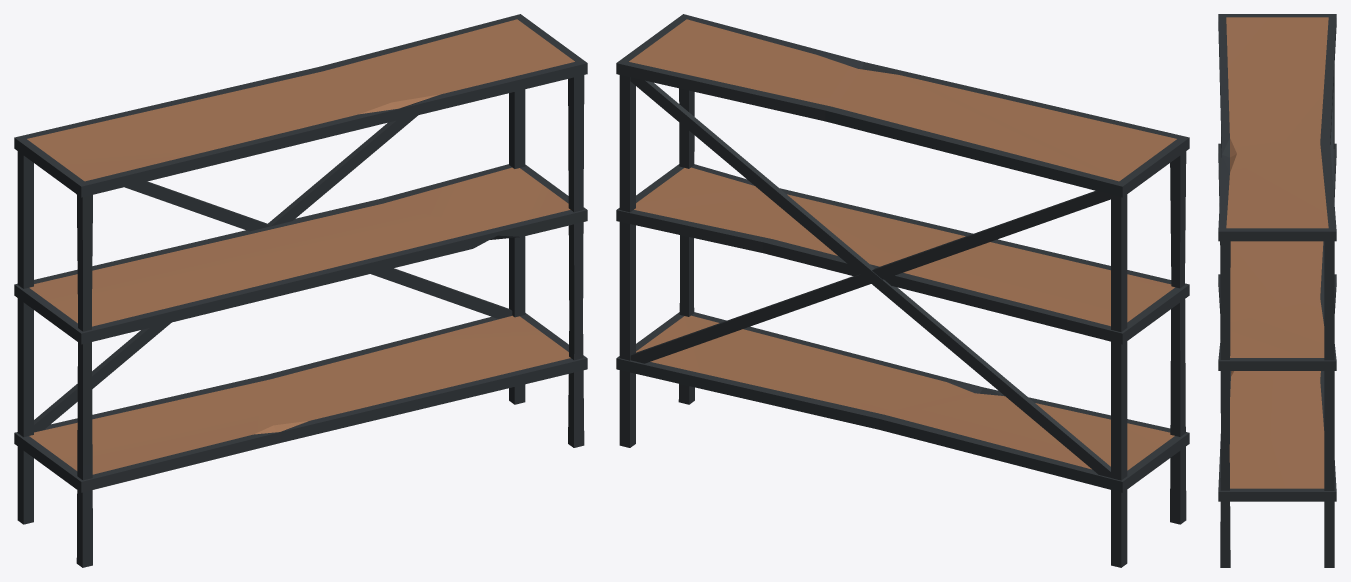
The model's file is SM_Prop_Shelf_02.obj.
3 renders of one model, left to right at view 1: azimuth 30°, elevation 25°; view 2: azimuth 150°, elevation 25°; view 3: azimuth 270°, elevation 25°, orthographic. The views are drawn at different scales.
Visible parts, largest first — view 1: SM_Prop_Shelf_02_Mat_SwatchOverlay_PolygonOffice_01_Inst; view 2: SM_Prop_Shelf_02_Mat_SwatchOverlay_PolygonOffice_01_Inst; view 3: SM_Prop_Shelf_02_Mat_SwatchOverlay_PolygonOffice_01_Inst.
Part boxes in pixels (x1,y1,x2,y2): SM_Prop_Shelf_02_Mat_SwatchOverlay_PolygonOffice_01_Inst: [14, 14, 587, 567]; SM_Prop_Shelf_02_Mat_SwatchOverlay_PolygonOffice_01_Inst: [616, 14, 1189, 567]; SM_Prop_Shelf_02_Mat_SwatchOverlay_PolygonOffice_01_Inst: [1218, 14, 1336, 567].
Size of the model in its own units: 2.21 by 1.6 by 0.5084.
1 material, 1 textured.
